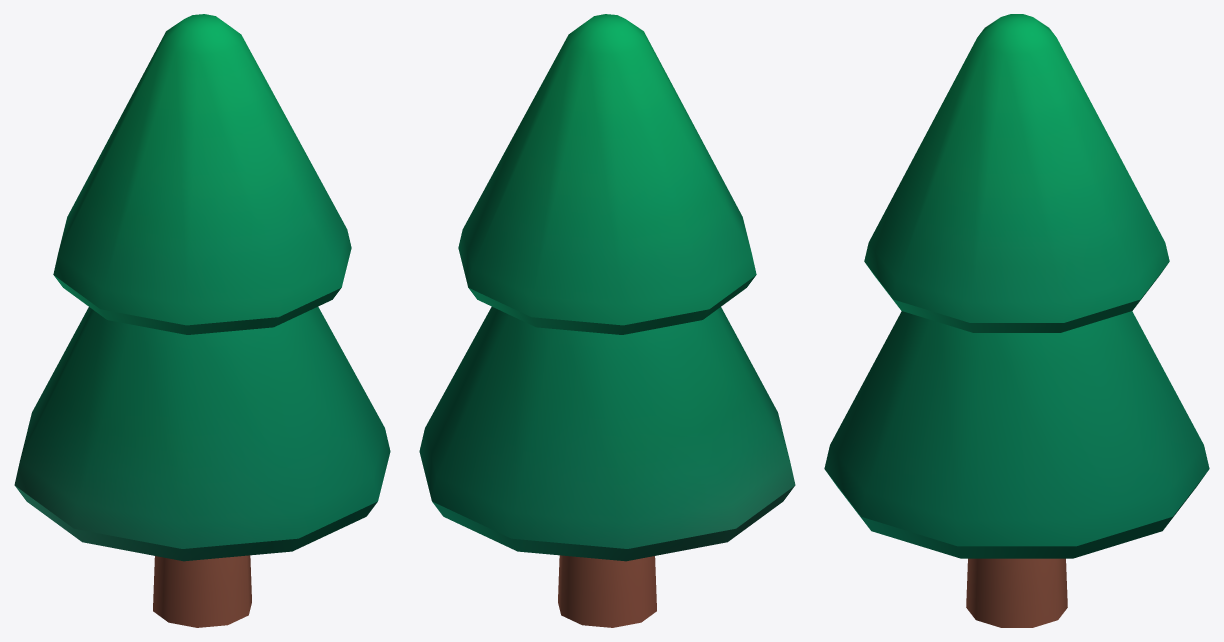
The model's file is tree.glb.
The picture shows the model from 3 angles, left to right: view 1: azimuth 30°, elevation 25°; view 2: azimuth 150°, elevation 25°; view 3: azimuth 270°, elevation 25°; orthographic projection.
Visible parts, largest first — view 1: tree_single_B; view 2: tree_single_B; view 3: tree_single_B.
Part boxes in pixels (bbox=[...]): tree_single_B: bbox=[14, 14, 390, 627]; tree_single_B: bbox=[419, 14, 795, 627]; tree_single_B: bbox=[824, 14, 1209, 627].
Bounding box in the file's own units: 0.6849 × 1.21 × 0.7201.
Materials: 1 (1 with a texture image).
